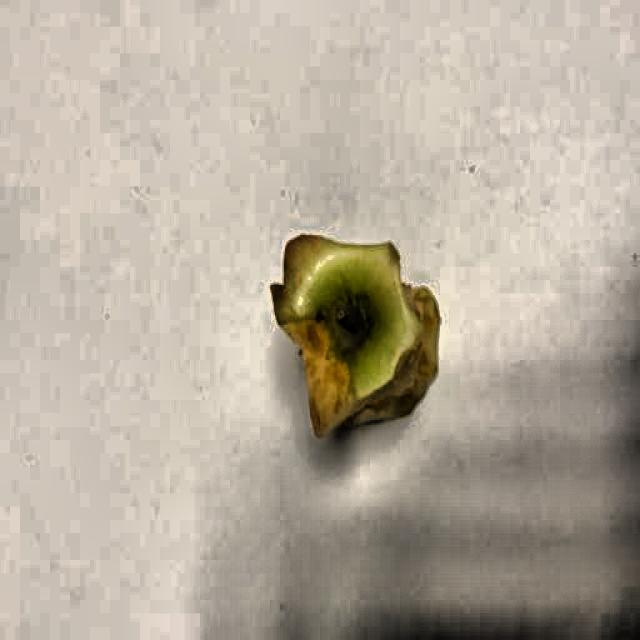trash: (270, 205, 431, 461)
